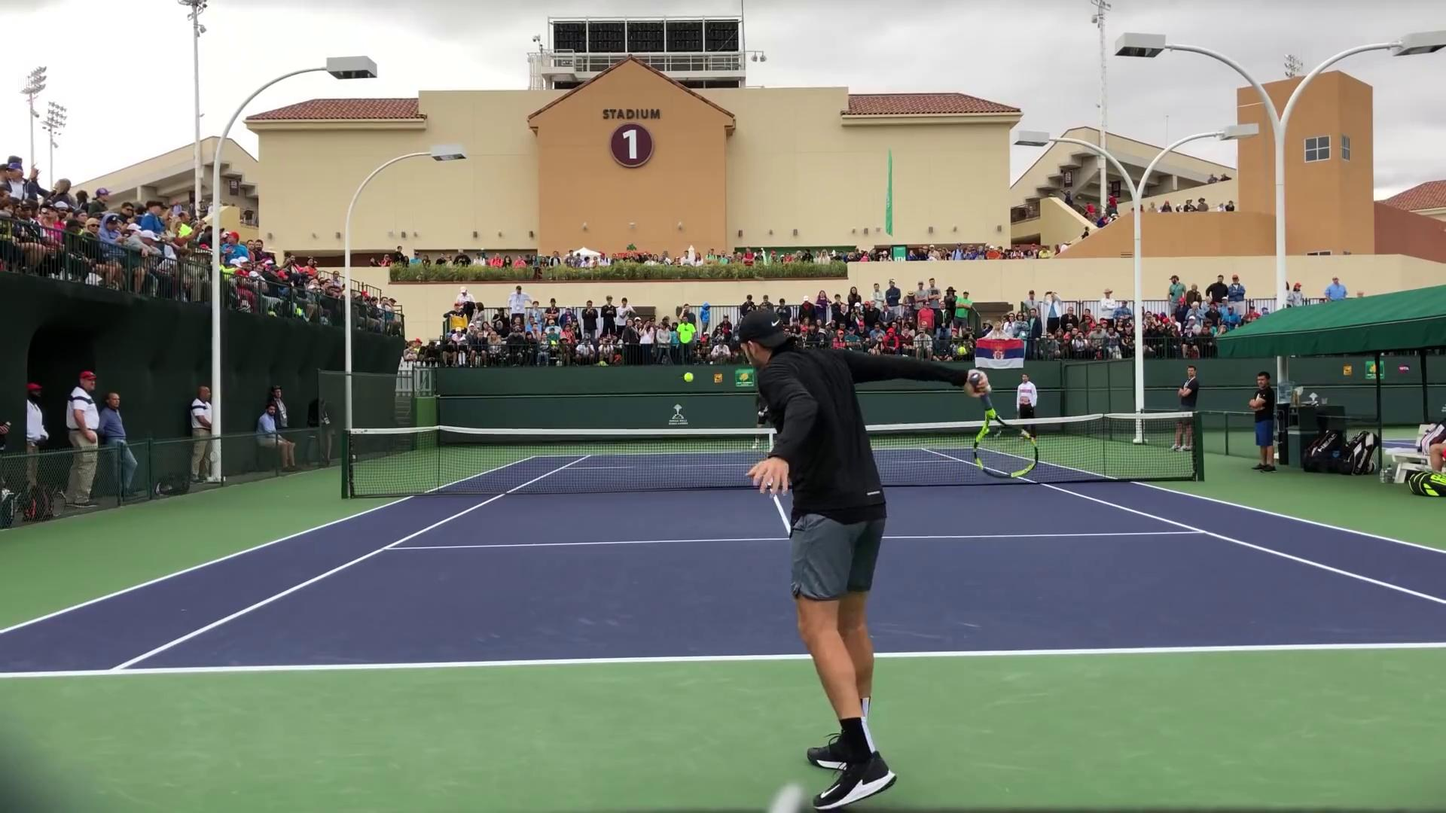ball: (683, 370, 694, 382)
